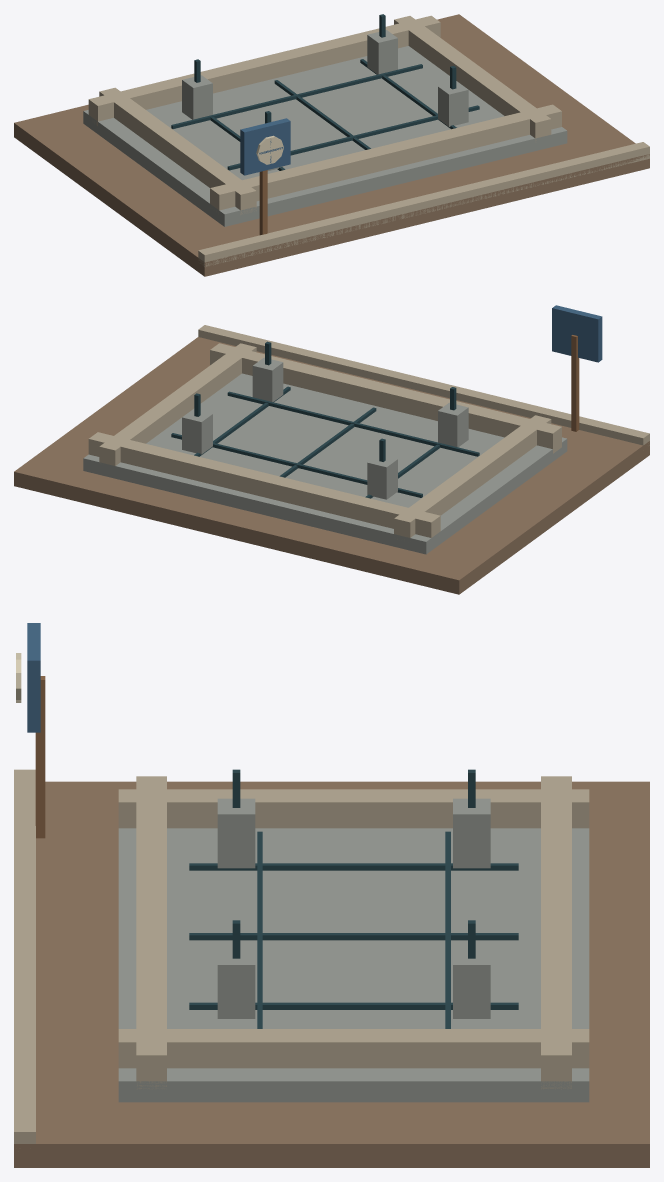
The model's file is sports-park-seabreeze-foundation.glb.
3 views of the same model, one above another, from view 1: azimuth 30°, elevation 25°; view 2: azimuth 150°, elevation 25°; view 3: azimuth 270°, elevation 25° (orthographic). The views are drawn at different scales.
Parts seen in each view (by area): view 1: sports-park; view 2: sports-park; view 3: sports-park.
Part boxes in pixels (<box>): sports-park: <box>14,14,649,276</box>; sports-park: <box>14,305,649,594</box>; sports-park: <box>14,623,649,1167</box>.
Size of the model in its own units: 3.88 by 1.09 by 2.88.
